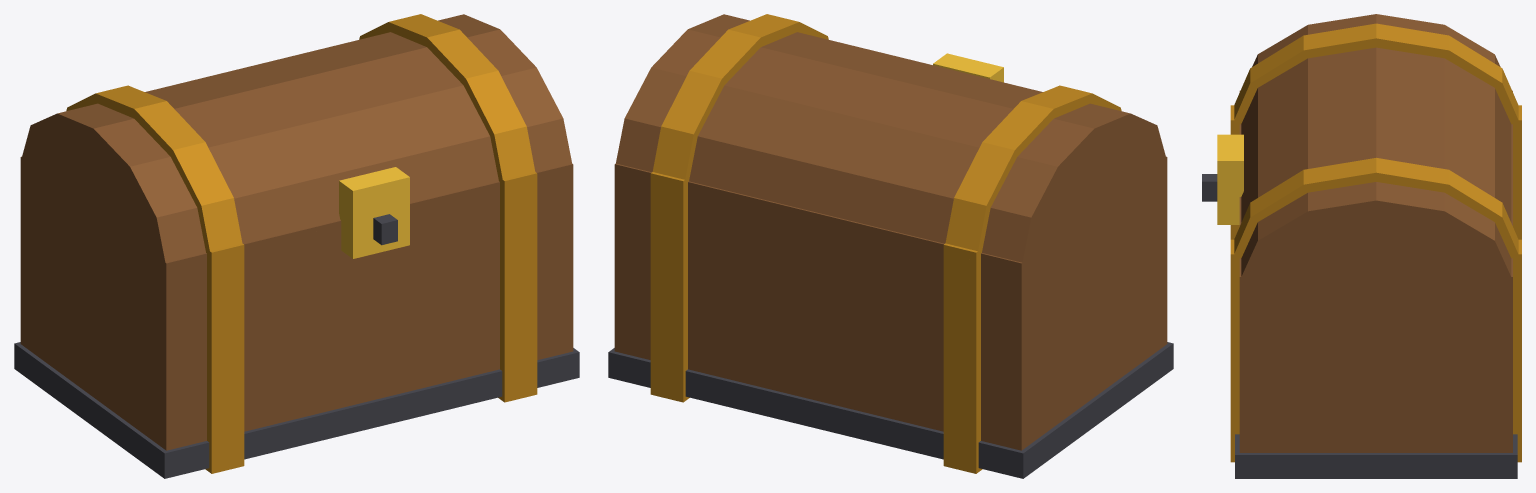
The model's file is TreasureChest.glb.
3 views of the same model, side by side, from view 1: azimuth 30°, elevation 25°; view 2: azimuth 150°, elevation 25°; view 3: azimuth 270°, elevation 25° (orthographic). The views are drawn at different scales.
Parts seen in each view (by area): view 1: TreasureChest_Base, TreasureChest_Lid; view 2: TreasureChest_Base, TreasureChest_Lid; view 3: TreasureChest_Lid, TreasureChest_Base.
Boxes of the visible parts, bbox=[...] form: TreasureChest_Base: bbox=[14, 156, 579, 478]; TreasureChest_Lid: bbox=[22, 14, 571, 265]; TreasureChest_Base: bbox=[608, 156, 1173, 478]; TreasureChest_Lid: bbox=[616, 14, 1166, 266]; TreasureChest_Lid: bbox=[1202, 14, 1521, 280]; TreasureChest_Base: bbox=[1230, 90, 1521, 478].
Size of the model in its own units: 1.02 by 0.7244 by 0.725.
Materials: 1 (1 with a texture image).
